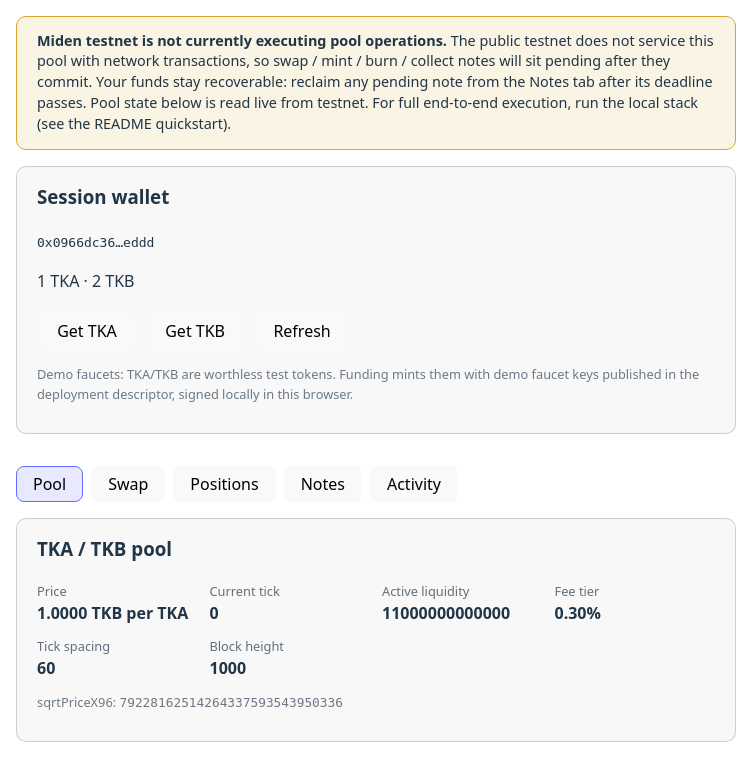
Scenario: ClammApp ntx-passive notice › keeps the notice visible on the swap flow while pool reads still render
Expected: the heading "TKA / TKB pool" is shown, left=37, top=536, right=172, bottom=561
Click the button "Swap": [128, 484] box left=91, top=466, right=165, bottom=502
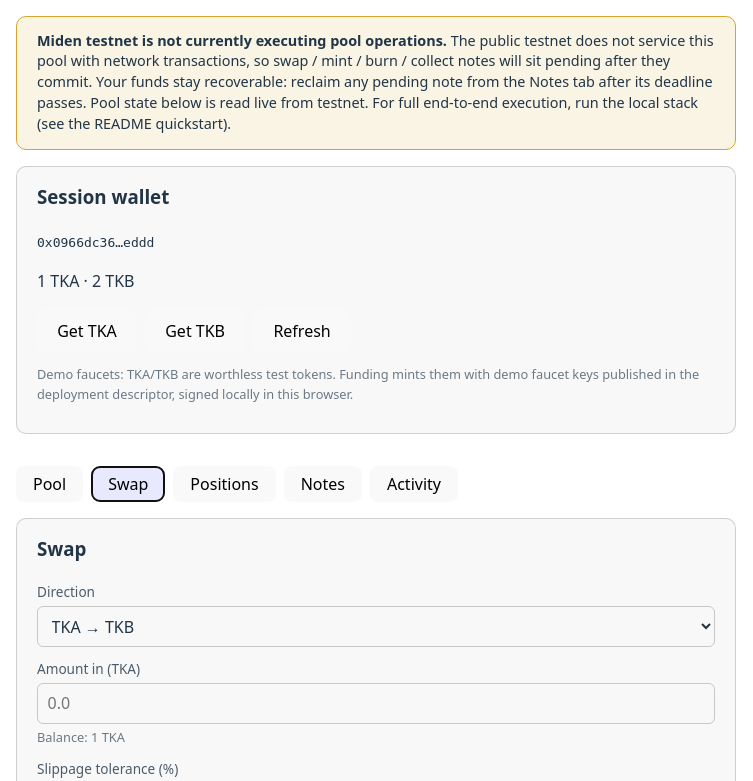
Expected: the message with test id "ntx-passive-notice" is shown, left=16, top=16, right=736, bottom=150
Click the button "Positions": [225, 484] box left=173, top=466, right=276, bottom=502
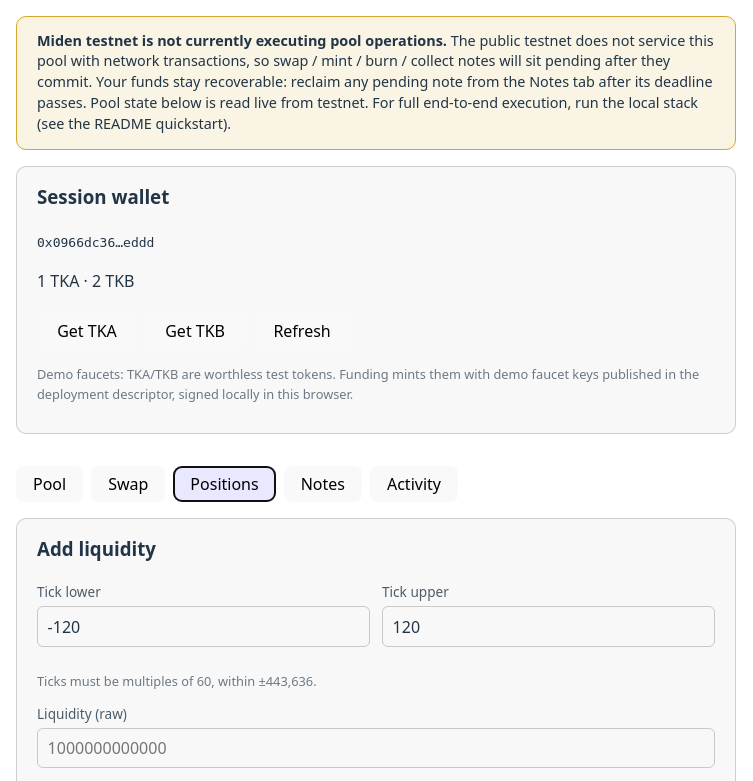
Expected: the message with test id "ntx-passive-notice" is shown, left=16, top=16, right=736, bottom=150
Now the heading "Add liquidity" is shown, box left=37, top=536, right=156, bottom=561
